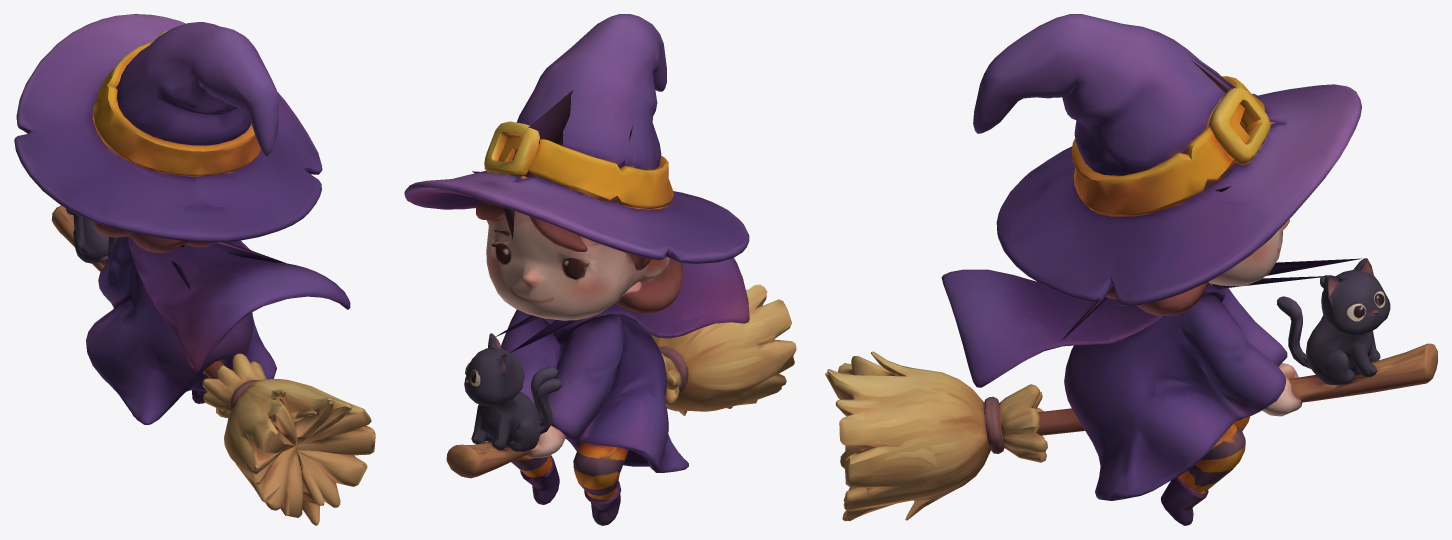
The model's file is H4_WitchOnBroom_LOD0.fbx.
3 views of the same model, side by side, from view 1: azimuth 30°, elevation 25°; view 2: azimuth 150°, elevation 25°; view 3: azimuth 270°, elevation 25° (orthographic). The views are drawn at different scales.
Parts seen in each view (by area): view 1: H4_WitchOnBroom_LOD0; view 2: H4_WitchOnBroom_LOD0; view 3: H4_WitchOnBroom_LOD0.
Boxes of the visible parts, x1,y1,x2,y2 form: H4_WitchOnBroom_LOD0: (14, 14, 375, 525); H4_WitchOnBroom_LOD0: (404, 14, 796, 525); H4_WitchOnBroom_LOD0: (825, 14, 1437, 525).
Size of the model in its own units: 0.6037 by 0.8999 by 0.9846.
Materials: 1 (1 with a texture image).
